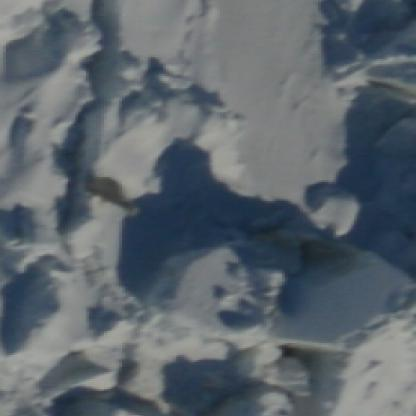polar-bear: (84, 178, 134, 216)
